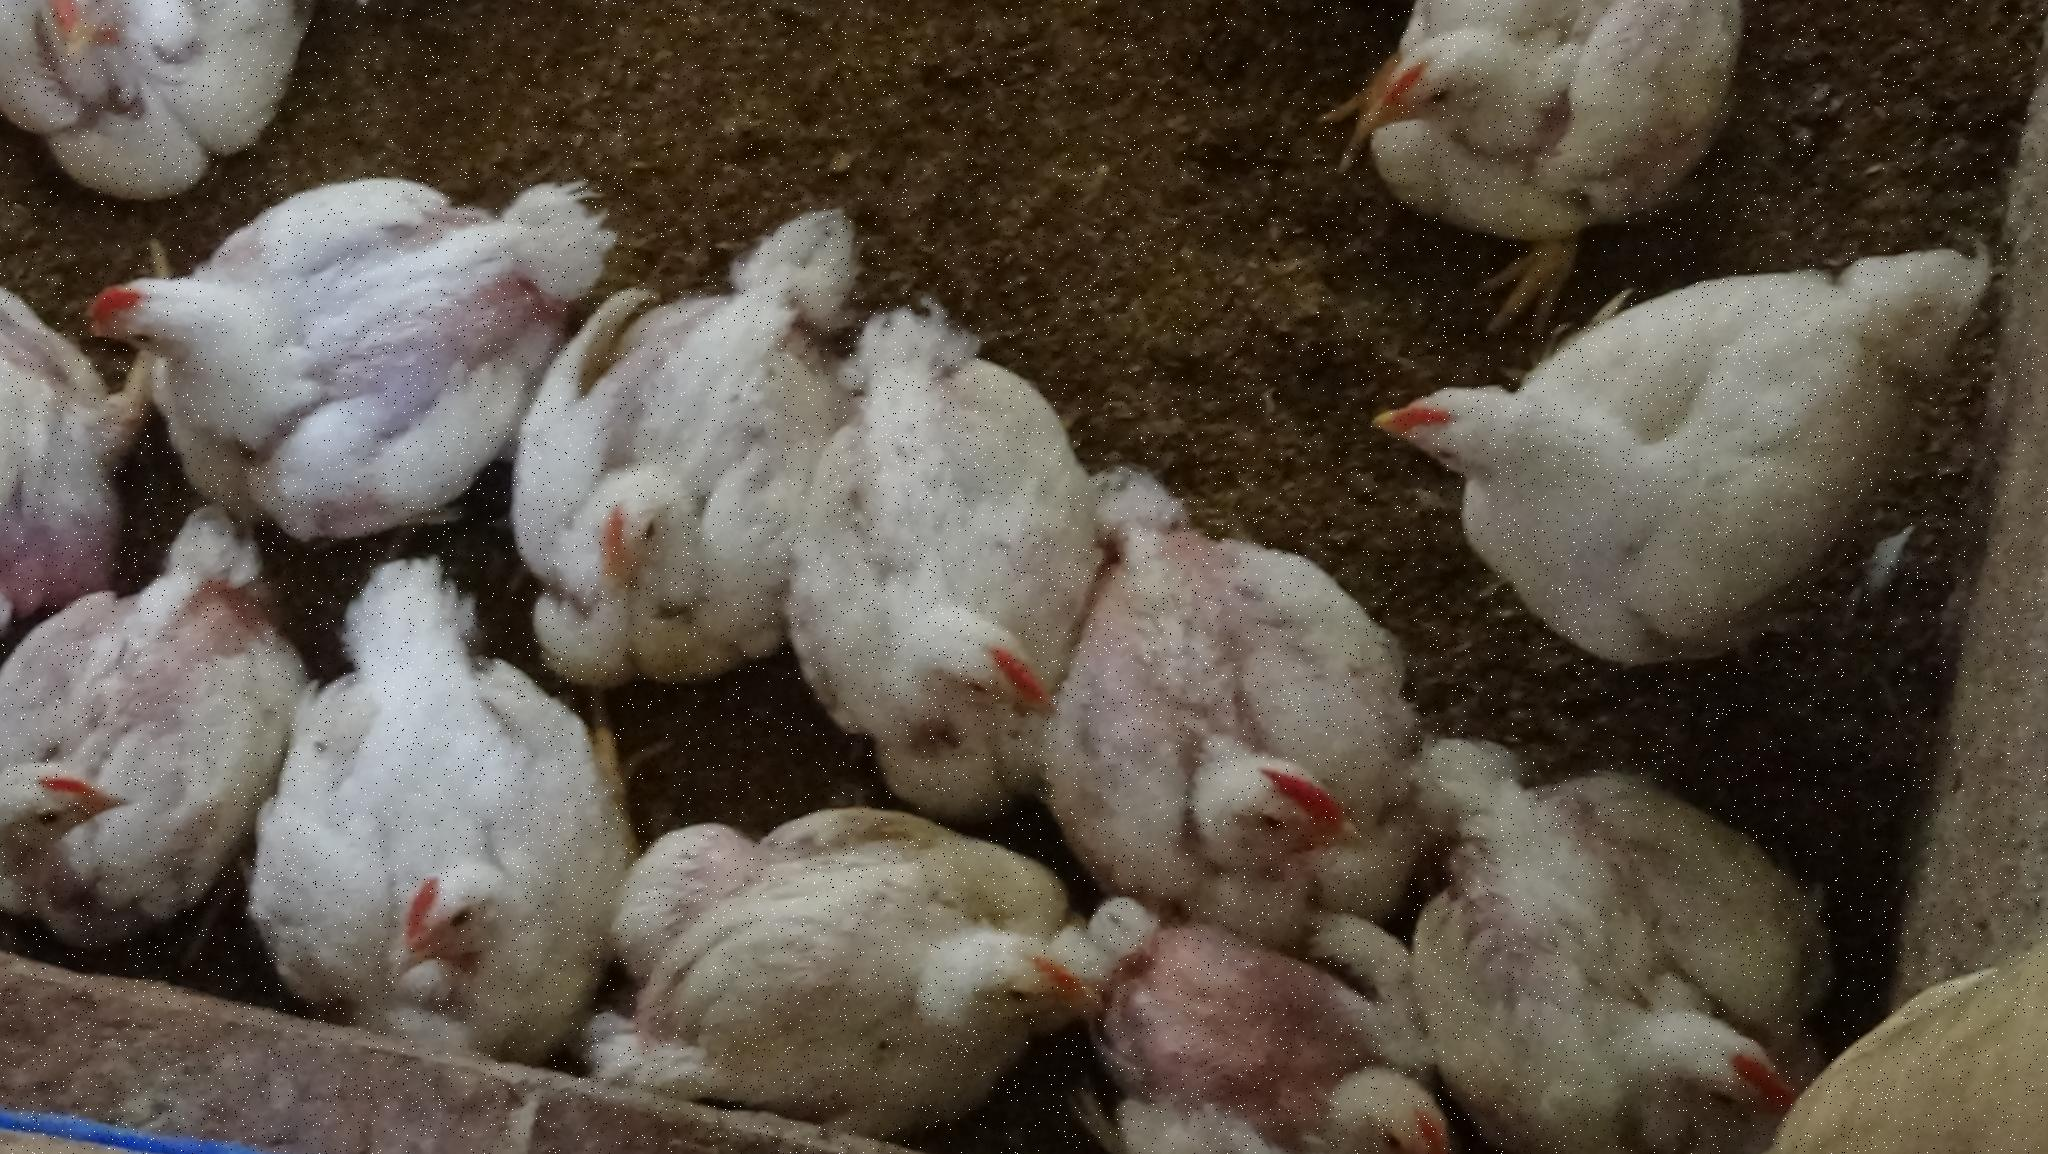Pollos: (1366, 265, 1990, 638), (626, 811, 1089, 1136), (297, 629, 620, 1085), (96, 201, 530, 511), (1478, 787, 1829, 1146), (836, 329, 1099, 775), (4, 557, 281, 958), (1122, 540, 1428, 896), (549, 279, 795, 690), (1303, 10, 1740, 227), (1089, 916, 1480, 1141), (1, 7, 333, 189)
